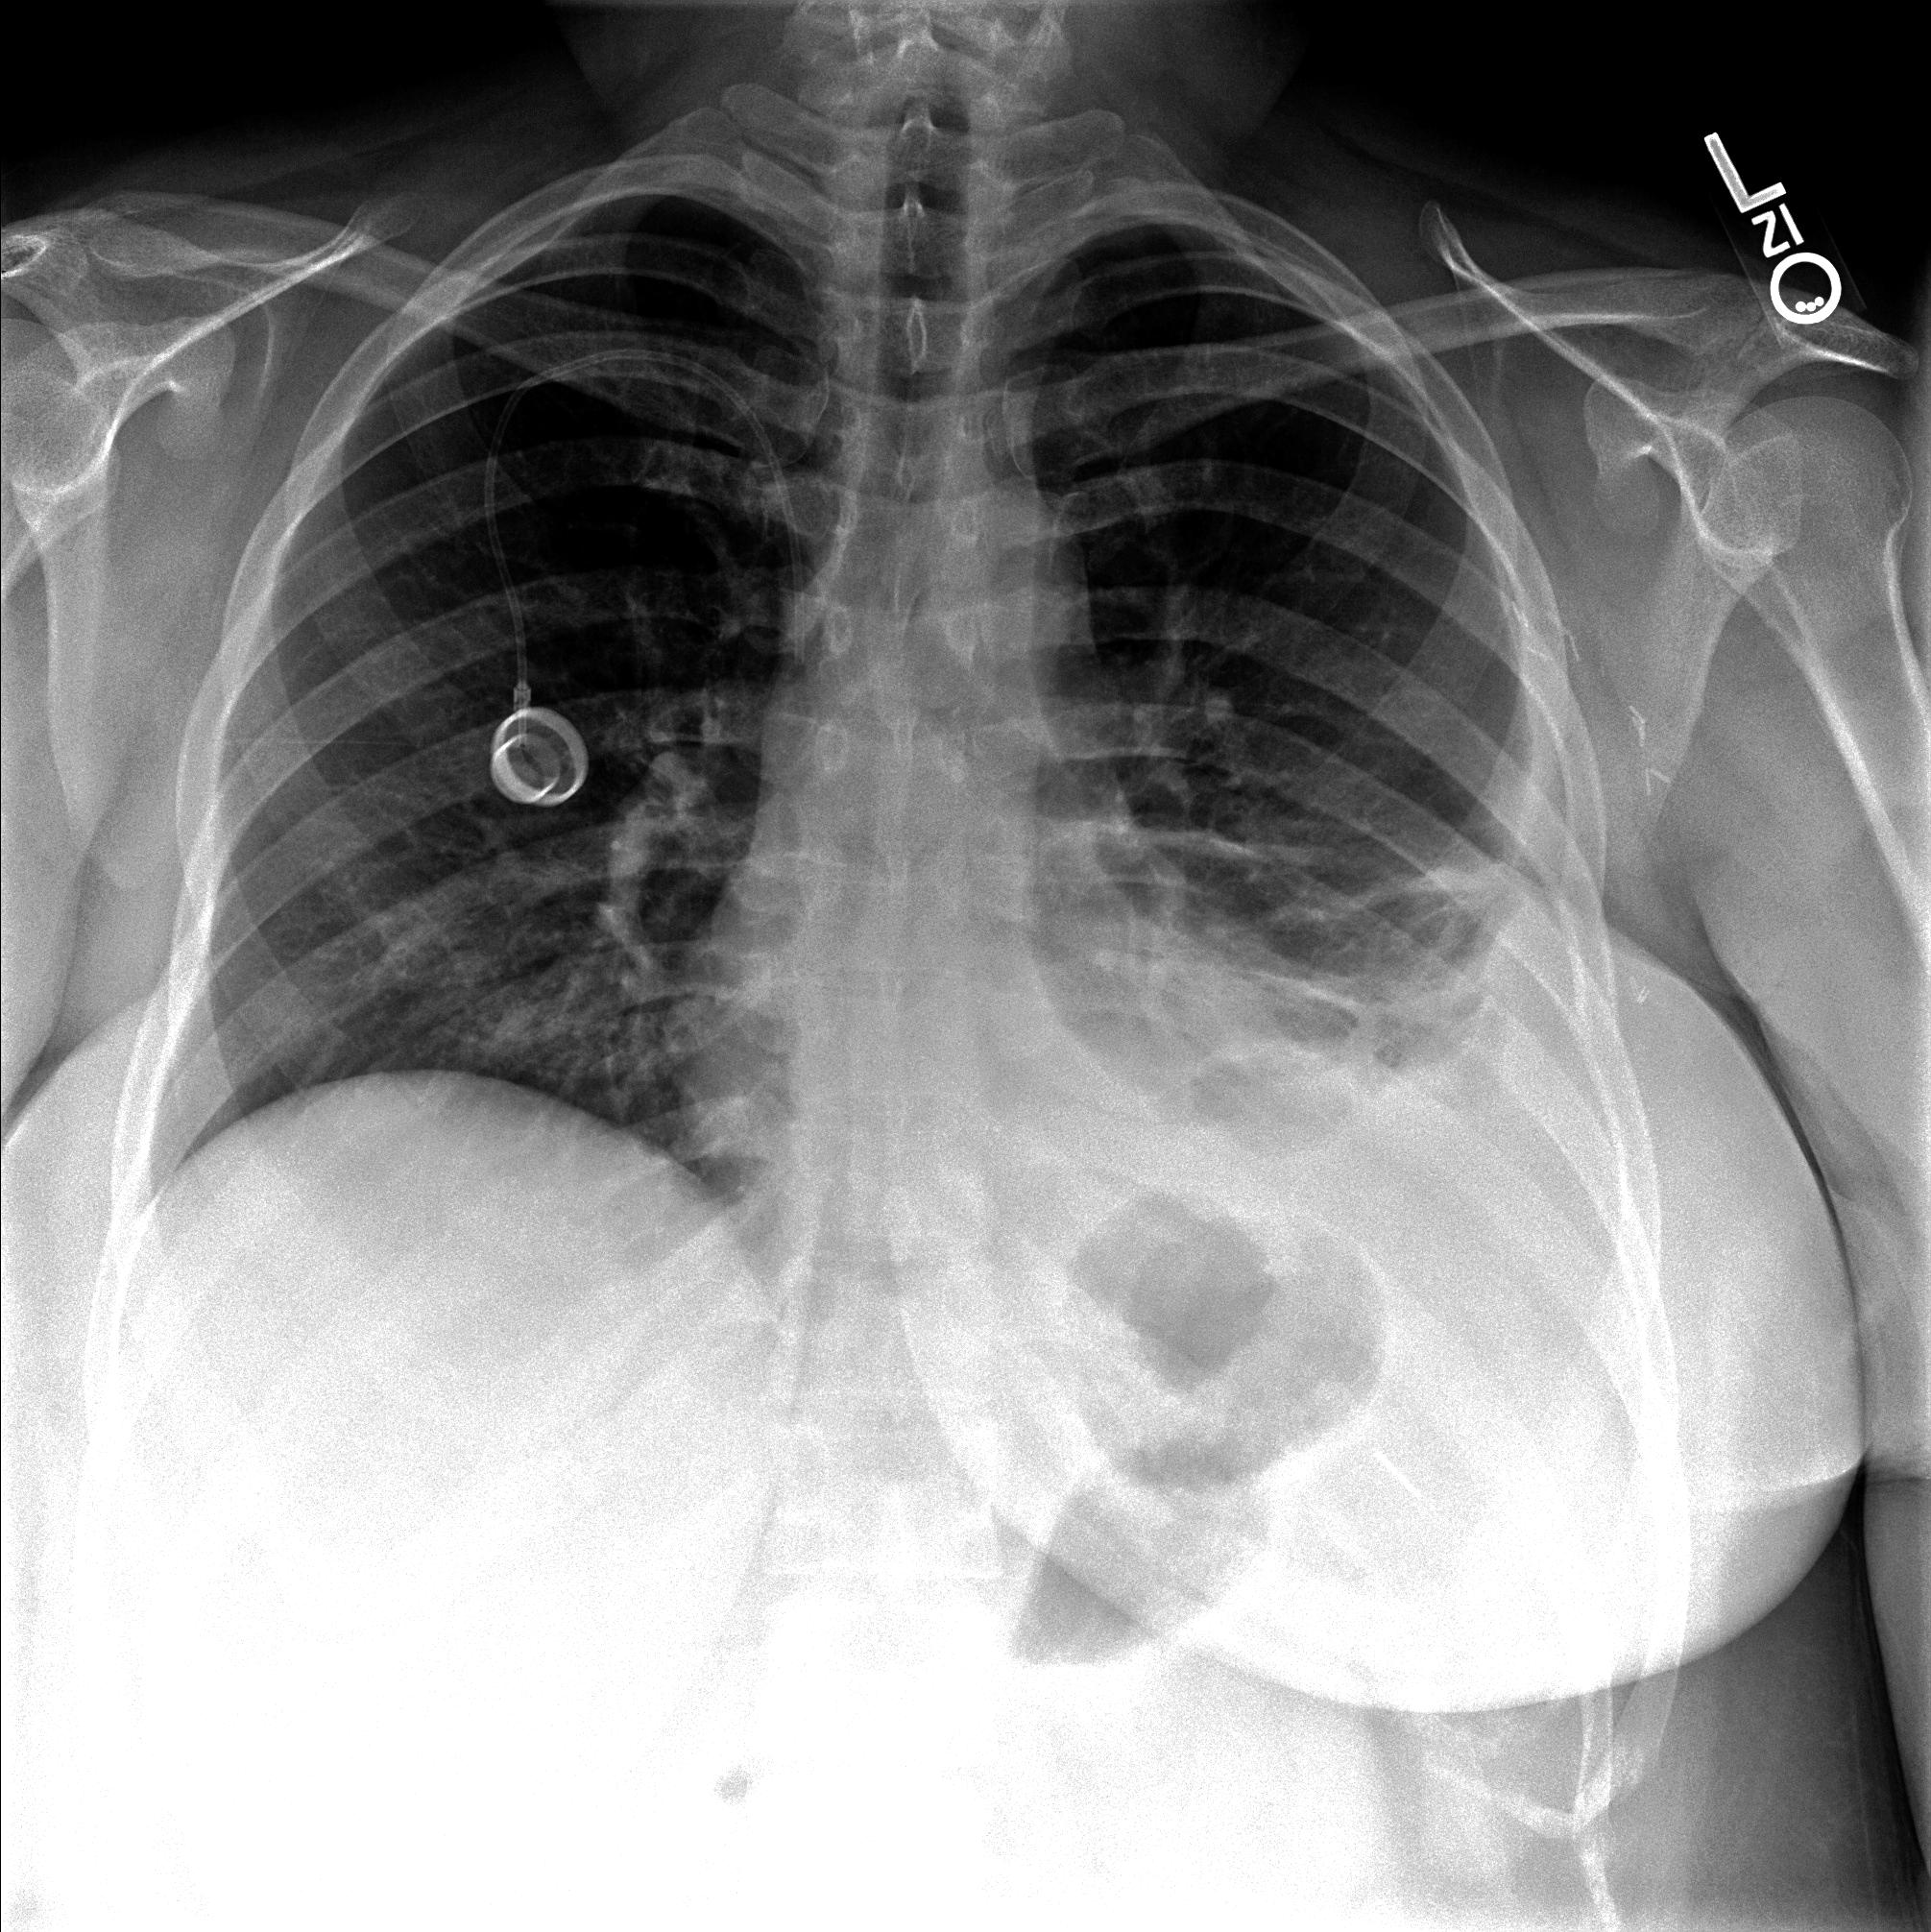Pleural Effusion: (1236, 905, 1653, 1501)
